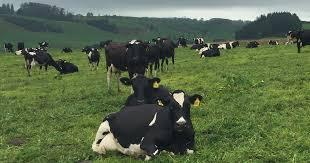cow: (91, 89, 203, 163), (104, 42, 149, 90), (119, 74, 176, 106), (151, 37, 176, 67), (25, 52, 56, 72), (82, 46, 100, 71), (55, 58, 79, 74), (217, 40, 240, 50), (200, 48, 221, 58), (245, 40, 261, 49), (100, 40, 113, 48), (194, 37, 205, 45), (61, 47, 72, 54), (268, 40, 279, 45)
